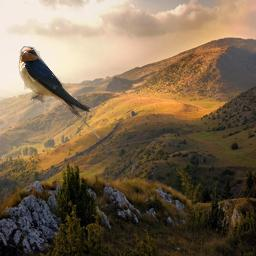Swallow: (18, 46, 101, 139)
